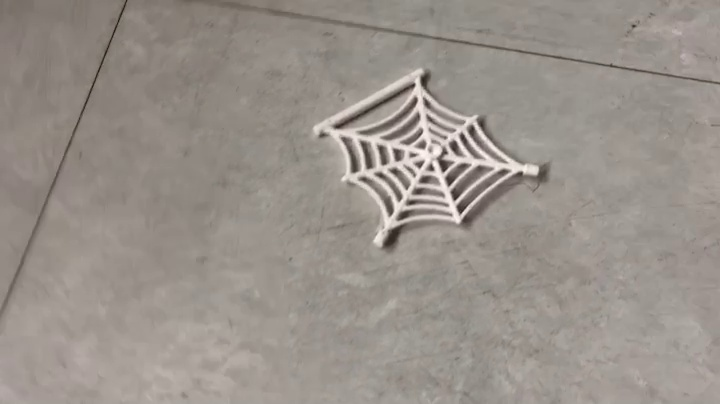web: (311, 66, 548, 251)
